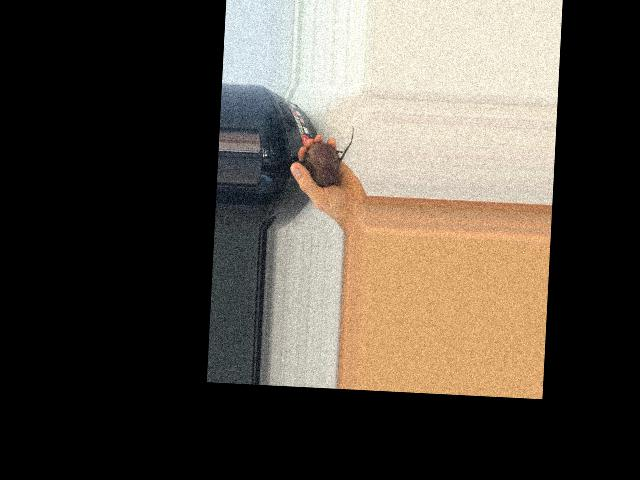beet: (297, 123, 354, 188)
